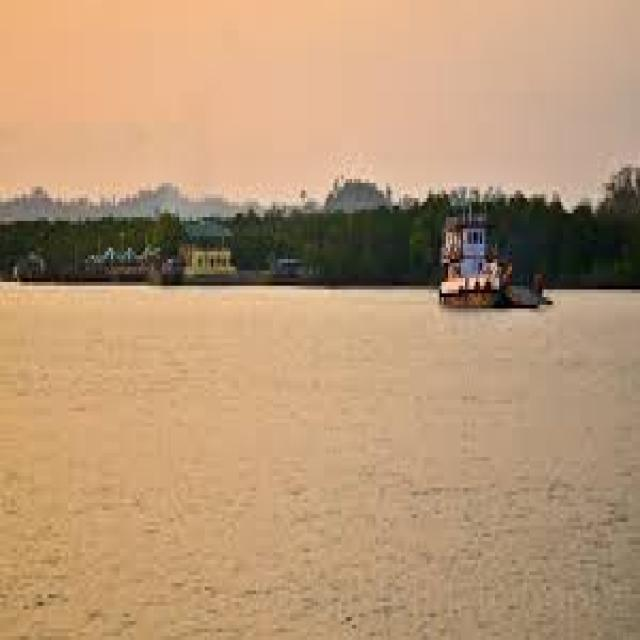cargoship: (418, 150, 552, 326)
